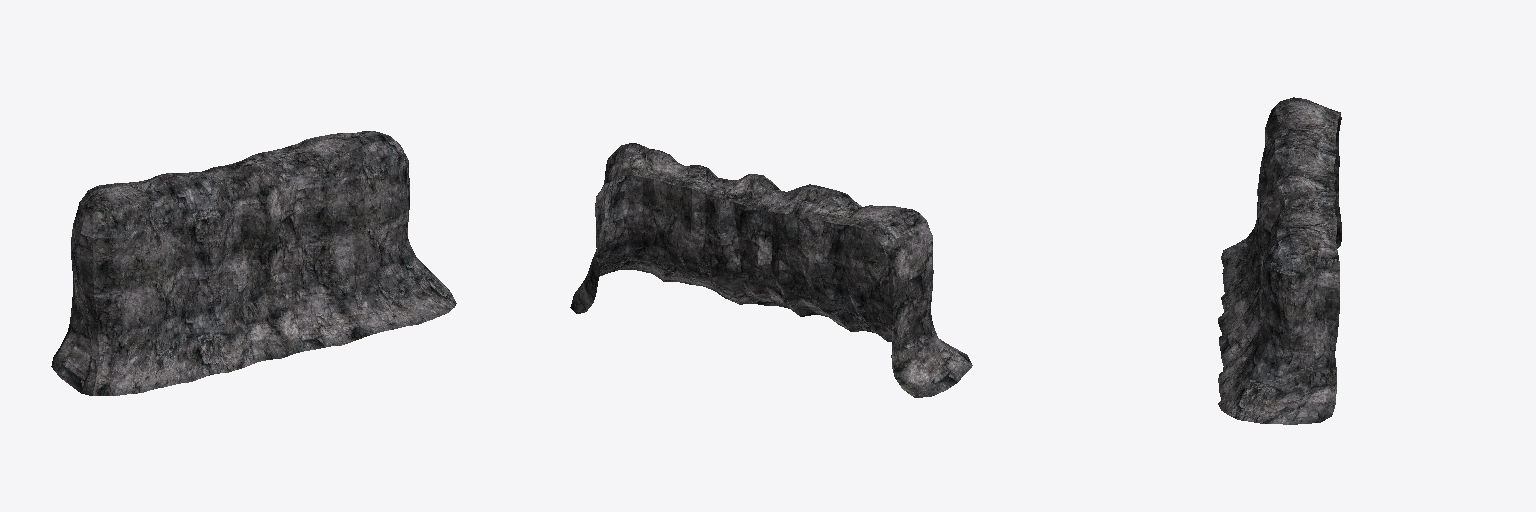
The picture shows the model from 3 angles: view 1: azimuth 30°, elevation 25°; view 2: azimuth 150°, elevation 25°; view 3: azimuth 270°, elevation 25°; orthographic projection.
Visible parts, largest first — view 1: skin; view 2: skin; view 3: skin.
Boxes of the visible parts, x1=… form: skin: x1=51, y1=131, x2=456, y2=395; skin: x1=570, y1=143, x2=972, y2=397; skin: x1=1218, y1=97, x2=1341, y2=424.
Size of the model in its own units: 144 by 64.15 by 41.08.
Materials: 1 (1 with a texture image).